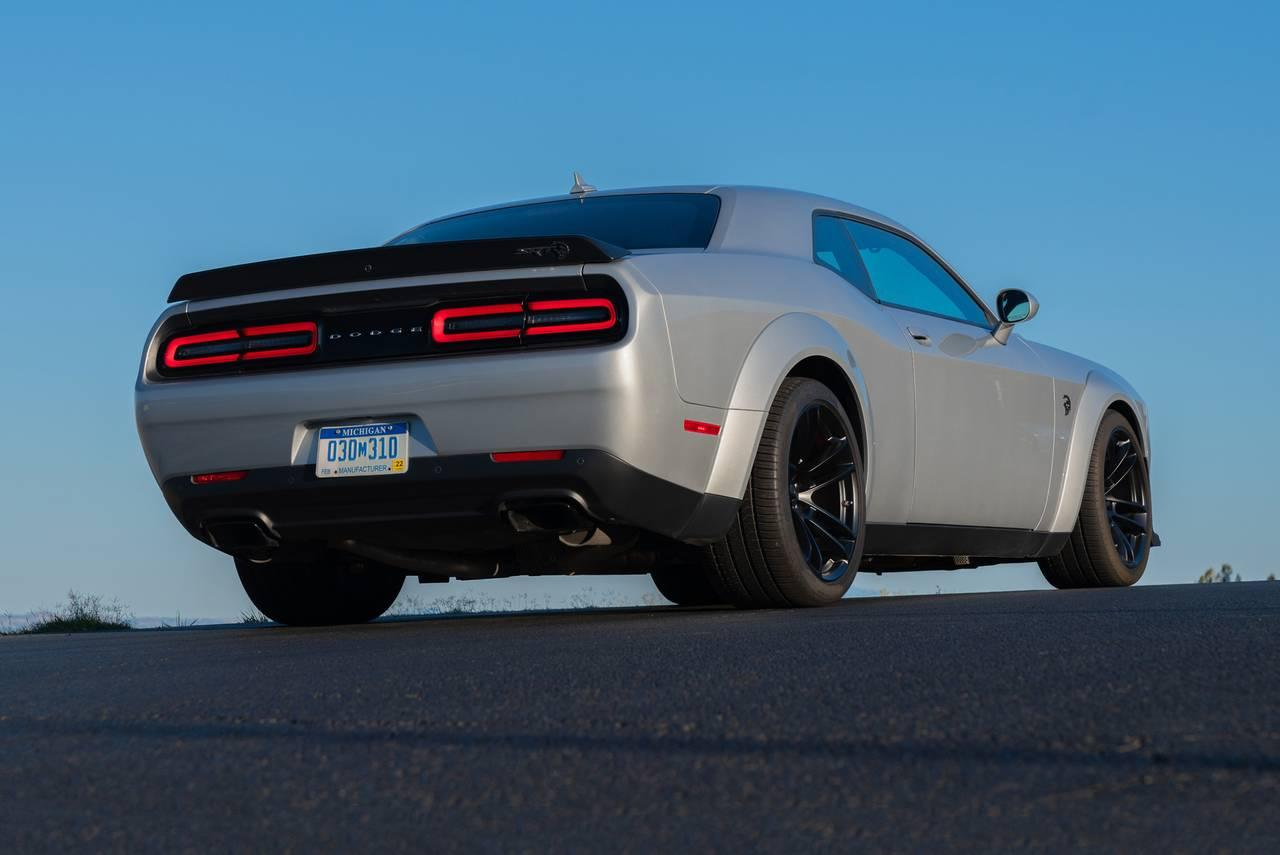dodge: (321, 315, 433, 353)
